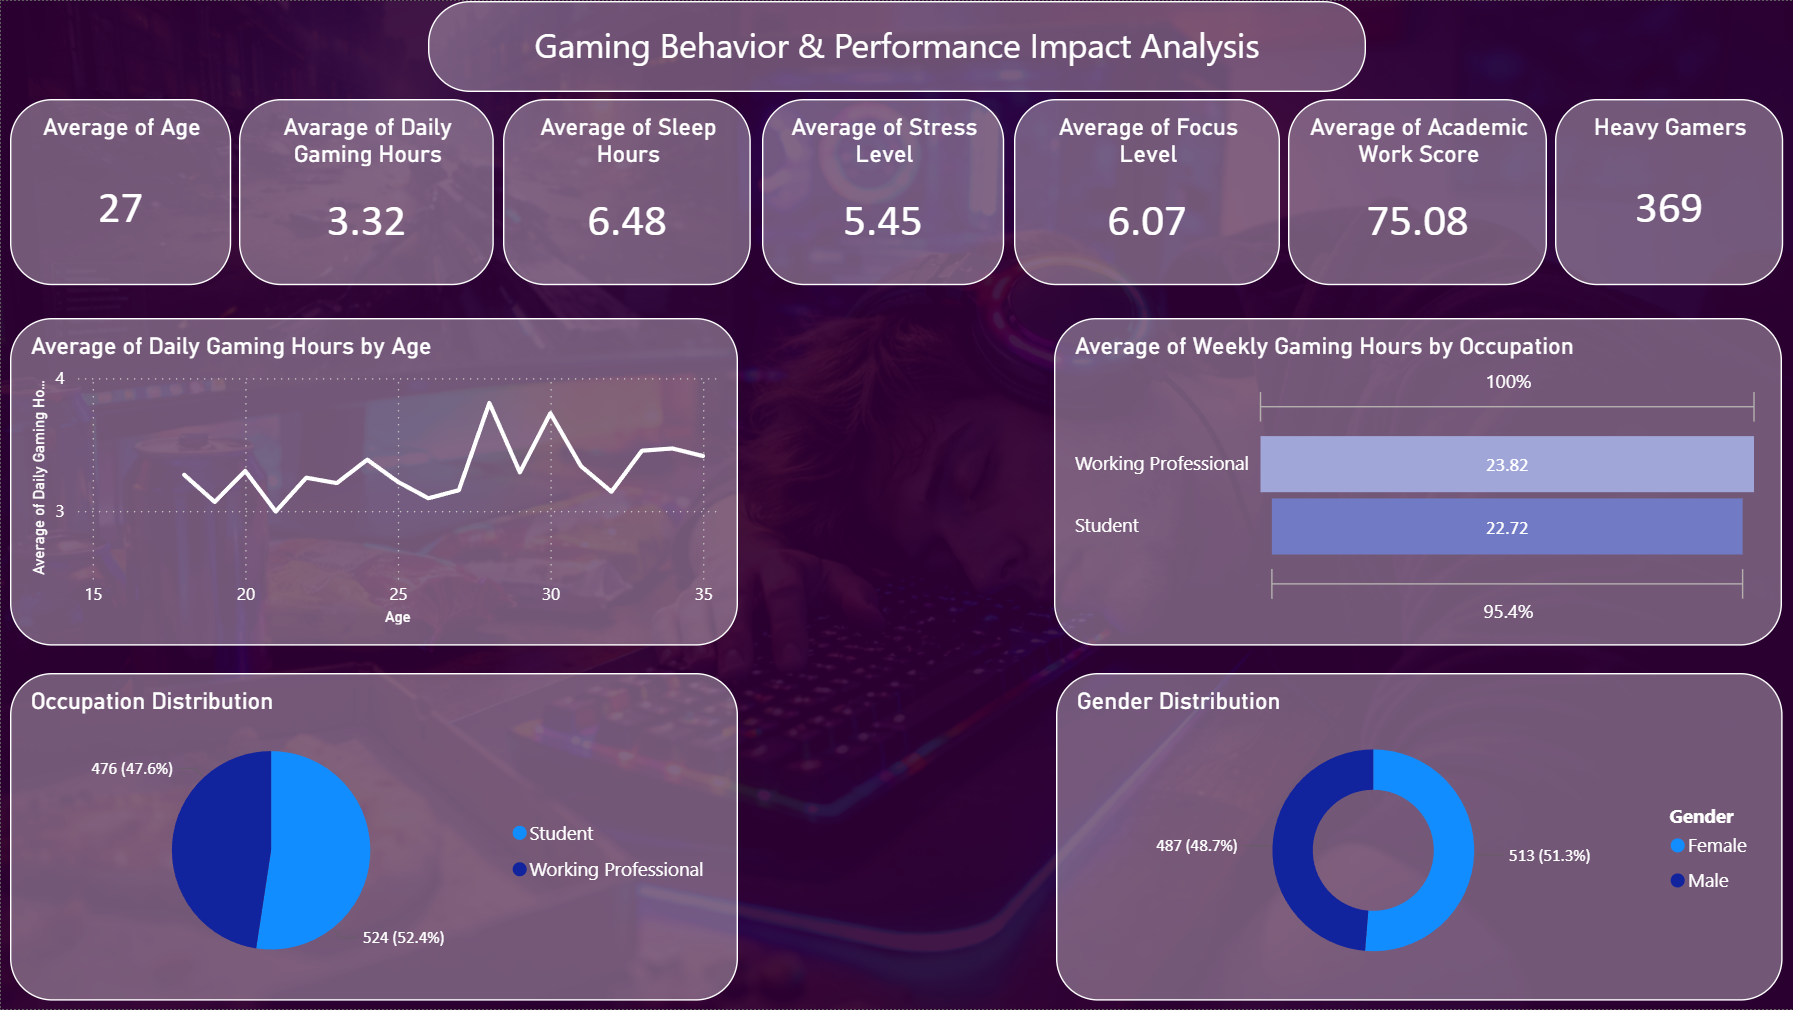

What the dashboard file says about the page in this screenshot:
{"tool":"powerbi","page":{"name":"Page 1","canvas":[1280,720],"ordinal":0},"visuals":[{"type":"card","title":"Avarage of Daily Gaming Hours","fields":{"Values":["Avg(cleaned_gaming_hours.Daily_Gaming_Hours)"]},"box":[170,70,182.1,132.9],"z":0},{"type":"card","title":"Average of Sleep Hours","fields":{"Values":["Avg(cleaned_gaming_hours.Sleep_Hours)"]},"box":[358.6,70,177.1,132.9],"z":1000},{"type":"card","title":"Average of Stress Level","fields":{"Values":["Avg(cleaned_gaming_hours.Stress_Level)"]},"box":[543.6,70,172.9,132.9],"z":2000},{"type":"card","title":"Average of Age","fields":{"Values":["Avg(cleaned_gaming_hours.Age)"]},"box":[6.4,70,157.9,132.9],"z":3000},{"type":"card","title":"Average of Focus Level","fields":{"Values":["Avg(cleaned_gaming_hours.Focus_Level)"]},"box":[723.6,70,190,132.9],"z":4000},{"type":"card","title":"Average of Academic Work Score","fields":{"Values":["Avg(cleaned_gaming_hours.Academic_or_Work_Score)"]},"box":[919.3,70,185,132.9],"z":5000},{"type":"donutChart","title":"Gender Distribution ","fields":{"Y":["CountNonNull(cleaned_gaming_hours.Gender)"],"Category":["cleaned_gaming_hours.Gender"]},"box":[753.6,480,519.3,234.3],"z":6000},{"type":"pieChart","title":"Occupation Distribution","fields":{"Category":["cleaned_gaming_hours.Occupation"],"Y":["CountNonNull(cleaned_gaming_hours.Occupation)"]},"box":[6.4,480,520,234.3],"z":7000},{"type":"funnel","title":"Average of Weekly Gaming Hours by Occupation","fields":{"Category":["cleaned_gaming_hours.Occupation"],"Y":["Avg(cleaned_gaming_hours.Weekly_Gaming_Hours)"]},"box":[752.1,226.4,520,234.3],"z":8000},{"type":"card","title":"Heavy Gamers","fields":{"Values":["cleaned_gaming_hours.Heavy_Gamers"]},"box":[1110,70,162.9,132.9],"z":9000},{"type":"textbox","box":[305,0,670,65],"z":12000},{"type":"lineChart","fields":{"Category":["cleaned_gaming_hours.Age"],"Y":["Avg(cleaned_gaming_hours.Daily_Gaming_Hours)"]},"box":[6.4,226.4,520,234.3],"z":13000}]}

Visuals, with their boxes in screenshot pixels (x1, y1, x2, y2), scaled from the page's 1280x720 canvas onto the 1793x1010 screenshot:
"Avarage of Daily Gaming Hours" card: 238/98/493/285
"Average of Sleep Hours" card: 502/98/750/285
"Average of Stress Level" card: 761/98/1004/285
"Average of Age" card: 9/98/230/285
"Average of Focus Level" card: 1014/98/1280/285
"Average of Academic Work Score" card: 1288/98/1547/285
"Gender Distribution " donutChart: 1056/673/1783/1002
"Occupation Distribution" pieChart: 9/673/737/1002
"Average of Weekly Gaming Hours by Occupation" funnel: 1054/318/1782/646
"Heavy Gamers" card: 1555/98/1783/285
textbox: 427/0/1366/91
lineChart - cleaned_gaming_hours.Age x Avg(cleaned_gaming_hours.Daily_Gaming_Hours): 9/318/737/646
